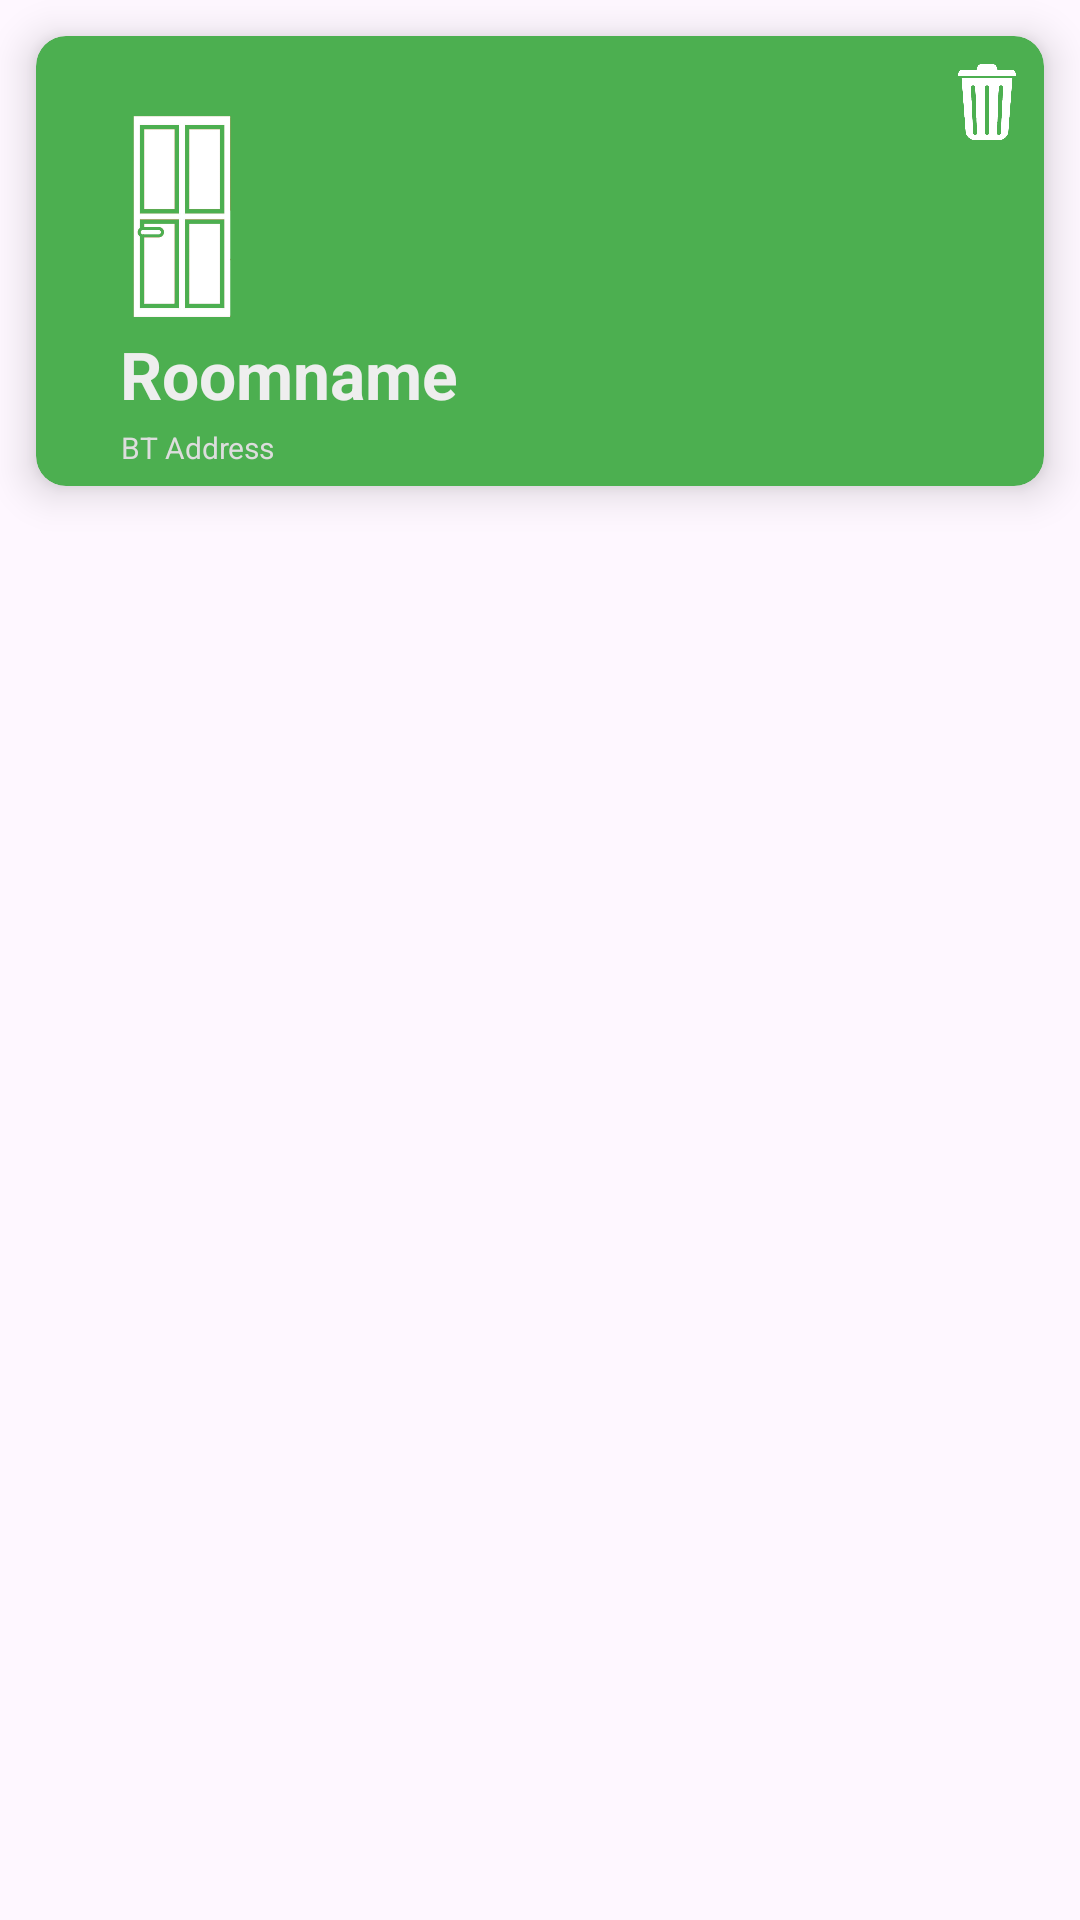

Named icons in this screenshot (1080*1920) and their centers, point (x, y):
recycle bin: point (987, 102)
room door: point (182, 216)
